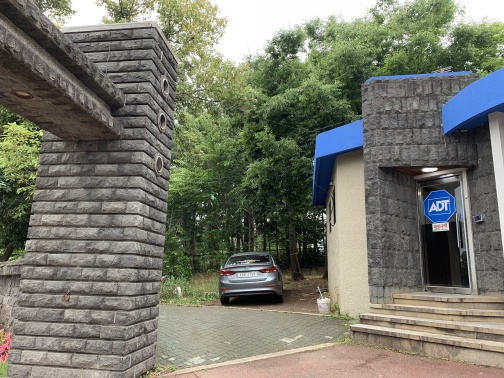Security Office: (309, 62, 503, 367)
